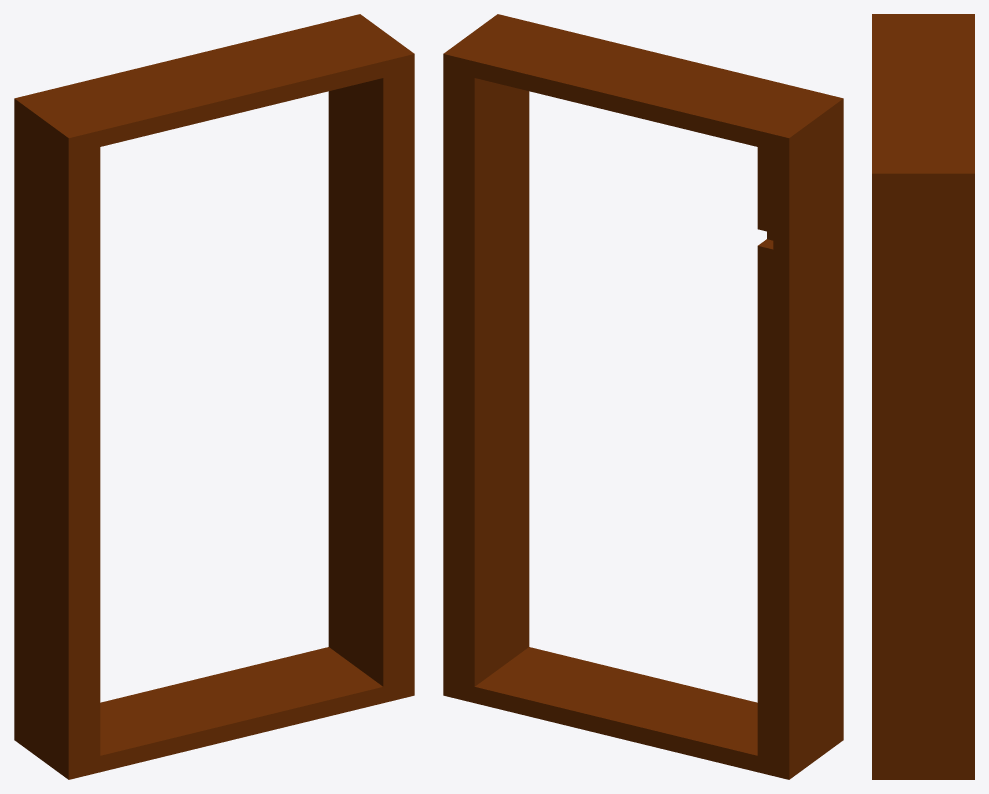
Rendered from door frame.obj.
3 views of the same model, side by side, from view 1: azimuth 30°, elevation 25°; view 2: azimuth 150°, elevation 25°; view 3: azimuth 270°, elevation 25° (orthographic). The views are drawn at different scales.
Bounding box in the file's own units: 2.2 × 3.9 × 0.6.
1 material, 1 textured.
